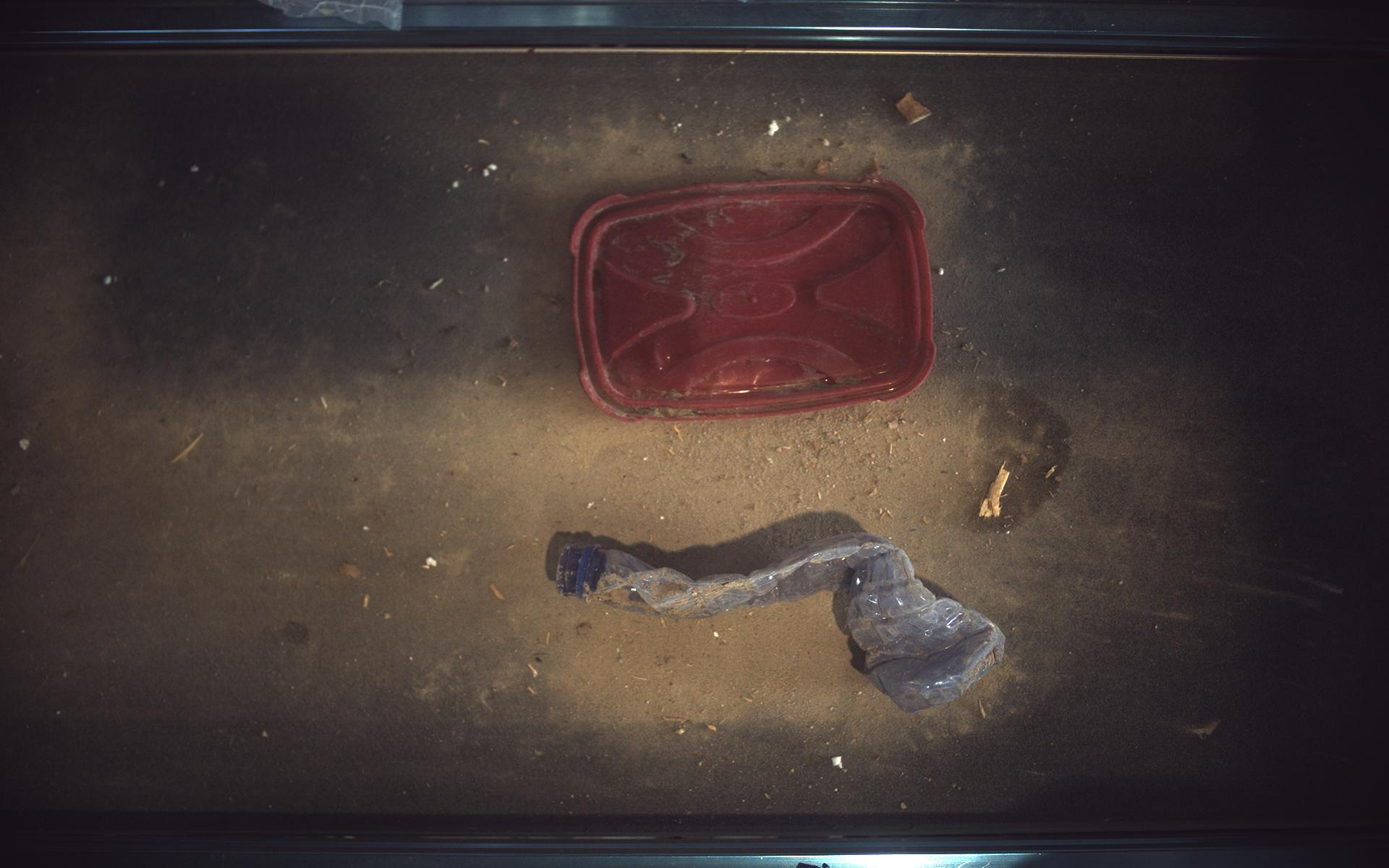general_w: (571, 174, 938, 420), (557, 534, 1007, 713)
